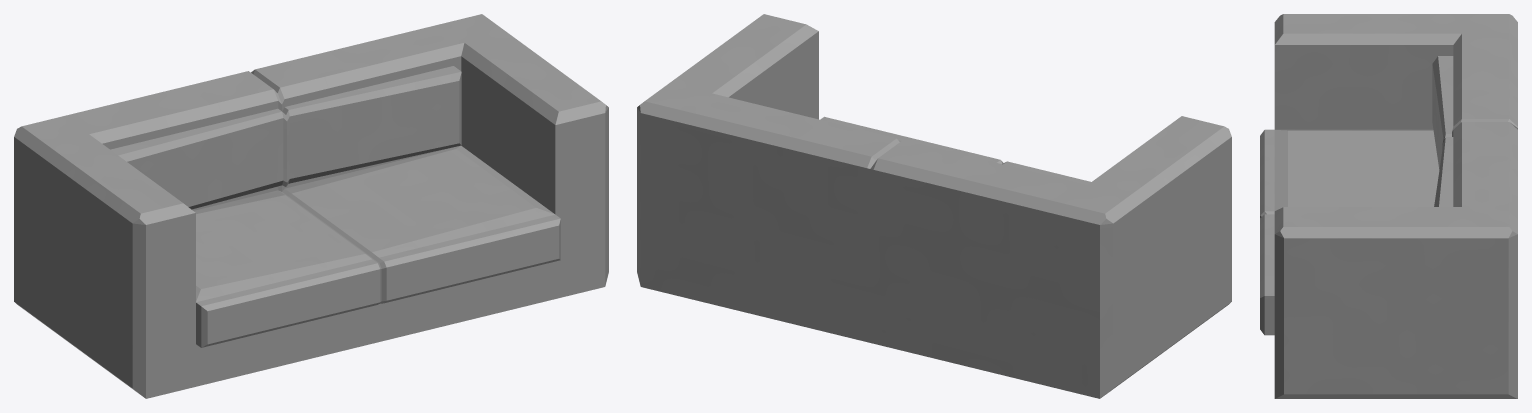
The model's file is Sofa_01_04.fbx.
3 views of the same model, side by side, from view 1: azimuth 30°, elevation 25°; view 2: azimuth 150°, elevation 25°; view 3: azimuth 270°, elevation 25° (orthographic). The views are drawn at different scales.
Parts seen in each view (by area): view 1: Sofa_01_04; view 2: Sofa_01_04; view 3: Sofa_01_04.
Part boxes in pixels (x1,y1,x2,y2): Sofa_01_04: (14, 14, 608, 398); Sofa_01_04: (637, 14, 1231, 398); Sofa_01_04: (1260, 14, 1517, 398).
Bounding box in the file's own units: 2.5 × 0.913 × 1.24.
